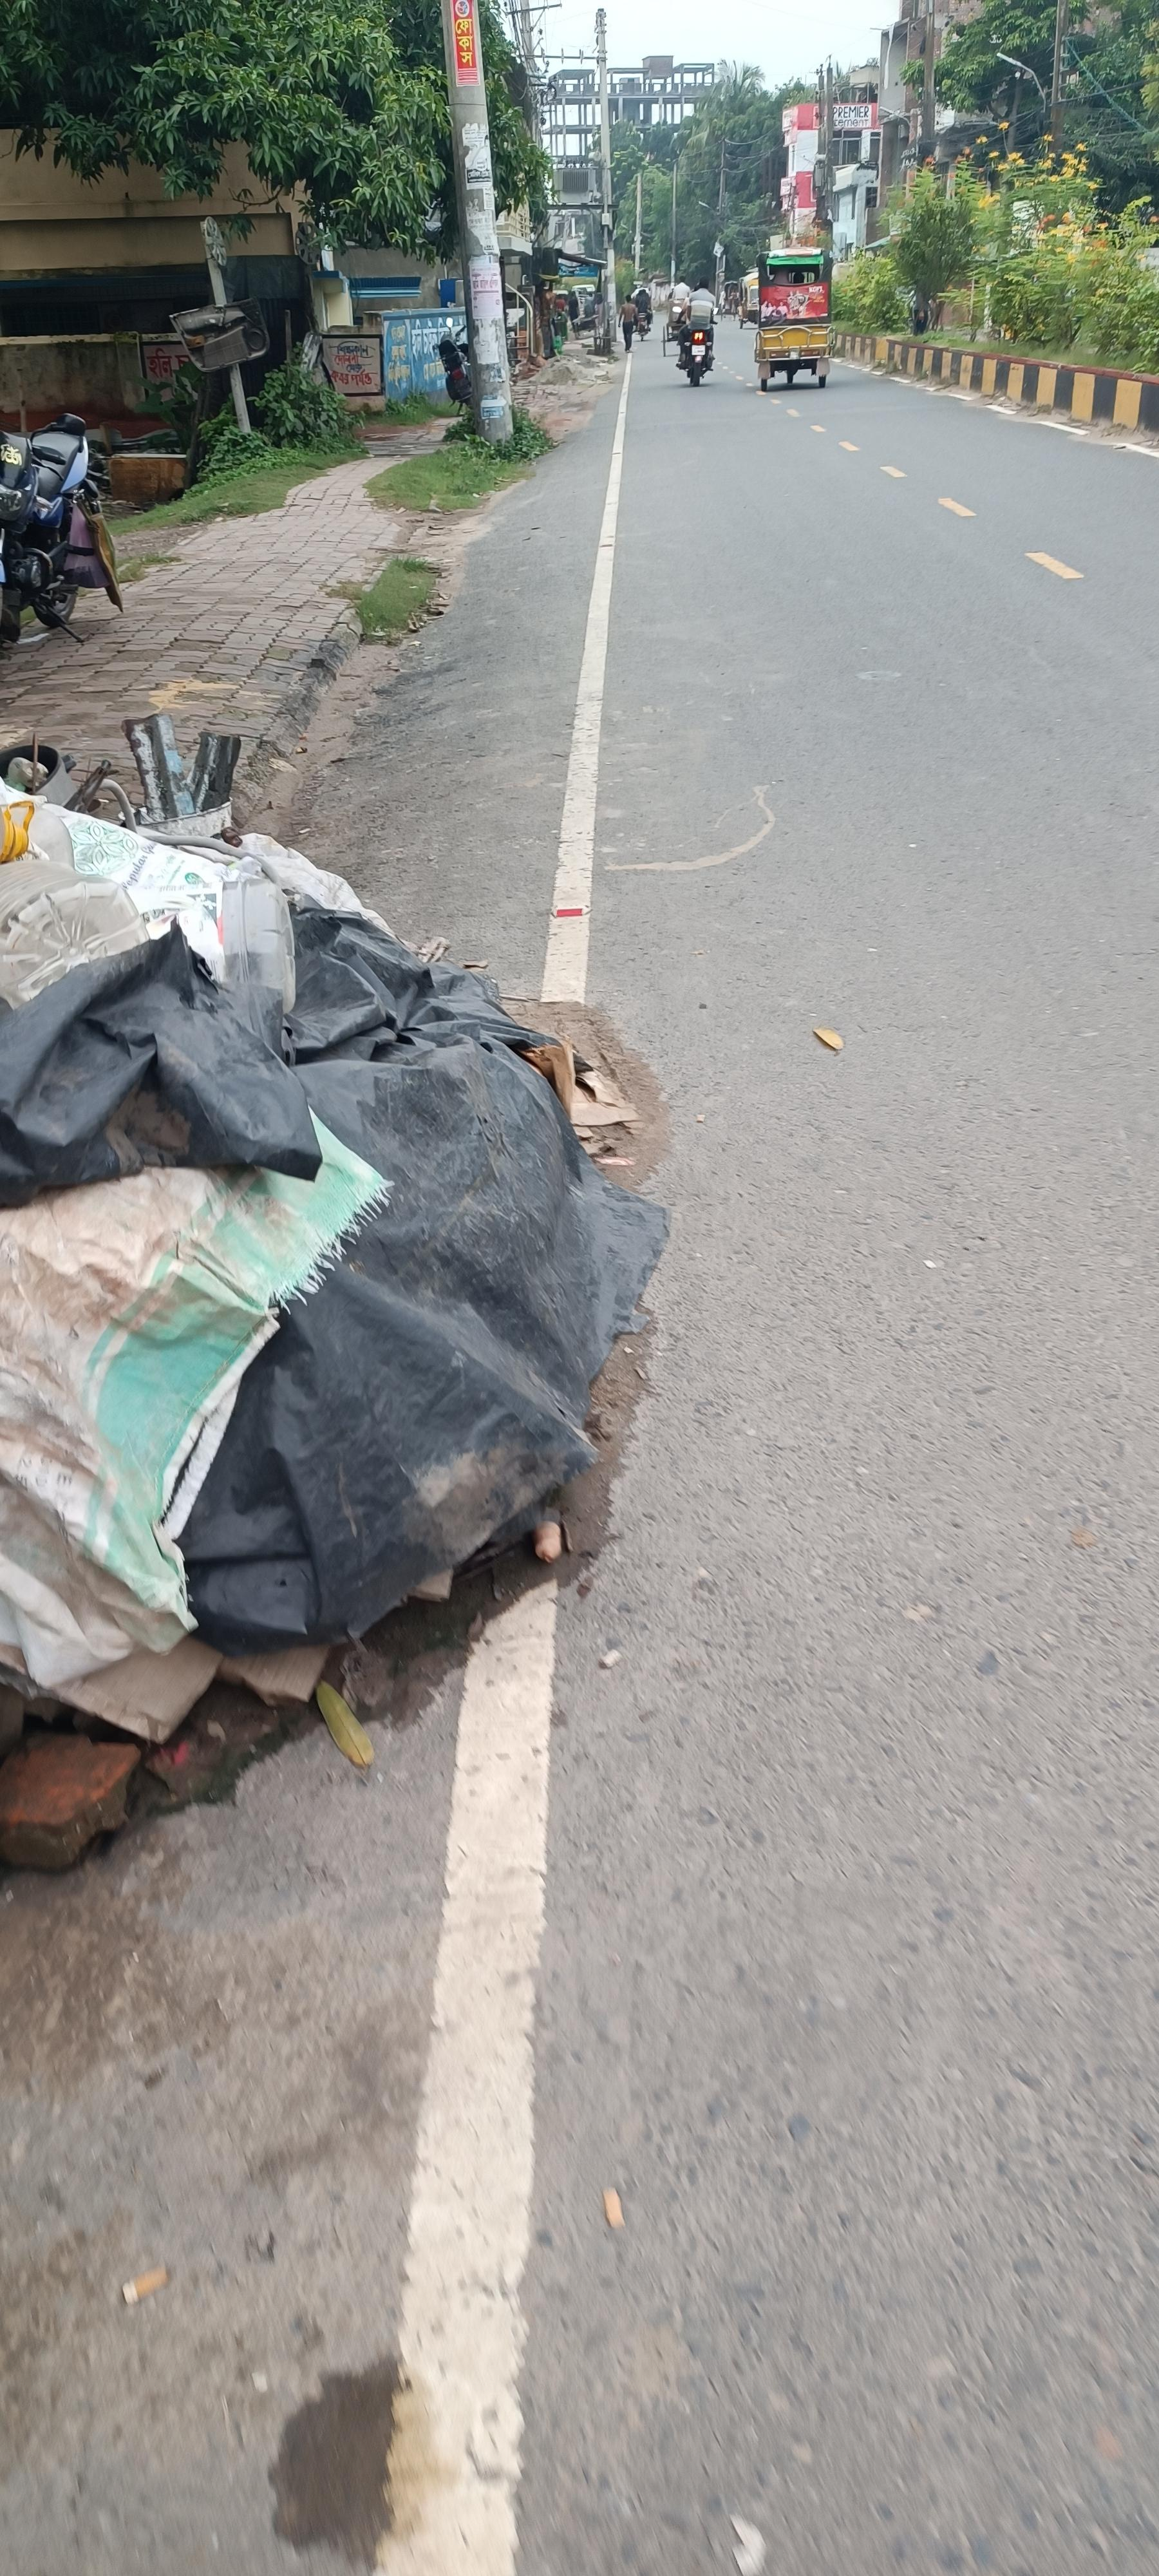Dog: (3, 722, 670, 1846)
Fallen-tree: (1, 411, 124, 649), (674, 316, 715, 386)
Light-pole: (440, 1, 516, 446)
Traffic-cone: (755, 247, 833, 390)
